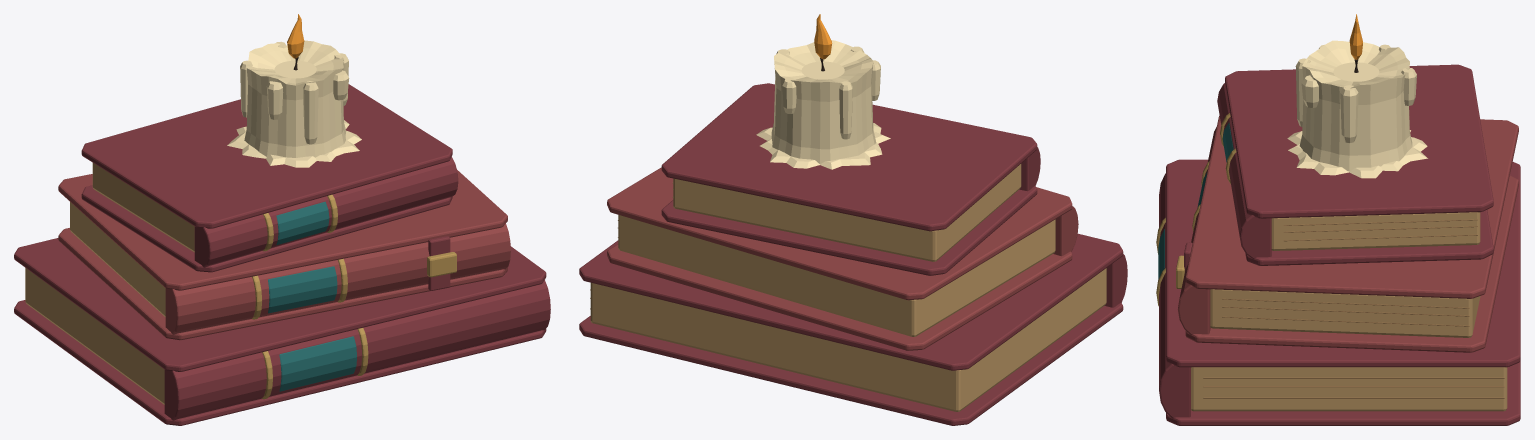
The model's file is asset.glb.
3 views of the same model, side by side, from view 1: azimuth 30°, elevation 25°; view 2: azimuth 150°, elevation 25°; view 3: azimuth 270°, elevation 25° (orthographic). The views are drawn at different scales.
Parts seen in each view (by area): view 1: book_top_cover_upper, book_bottom_cover_upper, book_bottom_spine, book_middle_cover_upper, book_middle_spine, candle_wax_body, book_top_spine, book_bottom_cover_lower, book_bottom_page_block, book_middle_cover_lower, book_top_cover_lower, book_bottom_spine_teal_panel (+12 smaller); view 2: book_top_cover_upper, book_bottom_page_block, book_middle_page_block, book_bottom_cover_upper, book_middle_cover_upper, book_top_page_block, candle_wax_body, book_bottom_cover_lower, book_middle_cover_lower, book_top_cover_lower, candle_wax_pool, book_bottom_spine (+4 smaller); view 3: book_top_cover_upper, book_middle_cover_upper, book_bottom_cover_upper, book_bottom_page_block, candle_wax_body, book_middle_page_block, book_top_page_block, book_middle_cover_lower, book_bottom_cover_lower, book_top_cover_lower, book_bottom_spine, book_top_spine (+10 smaller).
Boxes of the visible parts, left/top/right/bottom form: book_top_cover_upper: left=81, top=84, right=452, bottom=228; book_bottom_cover_upper: left=14, top=238, right=546, bottom=371; book_bottom_spine: left=164, top=280, right=550, bottom=420; book_middle_cover_upper: left=58, top=170, right=507, bottom=290; book_middle_spine: left=165, top=223, right=510, bottom=334; candle_wax_body: left=244, top=40, right=346, bottom=157; book_top_spine: left=194, top=157, right=458, bottom=267; book_bottom_cover_lower: left=14, top=300, right=546, bottom=425; book_bottom_page_block: left=25, top=268, right=164, bottom=404; book_middle_cover_lower: left=58, top=228, right=507, bottom=340; book_top_cover_lower: left=81, top=185, right=452, bottom=272; book_bottom_spine_teal_panel: left=279, top=336, right=356, bottom=391; book_top_cover_upper: left=661, top=83, right=1037, bottom=231; book_bottom_page_block: left=590, top=268, right=1106, bottom=411; book_middle_page_block: left=618, top=215, right=1055, bottom=336; book_bottom_cover_upper: left=579, top=233, right=1123, bottom=370; book_middle_cover_upper: left=607, top=167, right=1072, bottom=300; book_top_page_block: left=673, top=164, right=1021, bottom=261; candle_wax_body: left=771, top=40, right=876, bottom=163; book_bottom_cover_lower: left=579, top=303, right=1123, bottom=425; book_middle_cover_lower: left=607, top=244, right=1072, bottom=350; book_top_cover_lower: left=661, top=186, right=1037, bottom=275; candle_wax_pool: left=756, top=123, right=890, bottom=169; book_bottom_spine: left=1104, top=254, right=1127, bottom=307; book_top_cover_upper: left=1225, top=64, right=1493, bottom=218; book_middle_cover_upper: left=1185, top=115, right=1518, bottom=298; book_bottom_cover_upper: left=1166, top=159, right=1520, bottom=367; book_bottom_page_block: left=1191, top=367, right=1507, bottom=411; candle_wax_body: left=1299, top=40, right=1412, bottom=171; book_middle_page_block: left=1210, top=289, right=1480, bottom=337; book_top_page_block: left=1271, top=212, right=1480, bottom=250; book_middle_cover_lower: left=1185, top=175, right=1518, bottom=352; book_bottom_cover_lower: left=1166, top=360, right=1520, bottom=425; book_top_cover_lower: left=1245, top=210, right=1493, bottom=265; book_bottom_spine: left=1159, top=173, right=1190, bottom=418; book_top_spine: left=1217, top=83, right=1271, bottom=258.
Bounding box in the file's own units: 0.27 × 0.202 × 0.2055.
